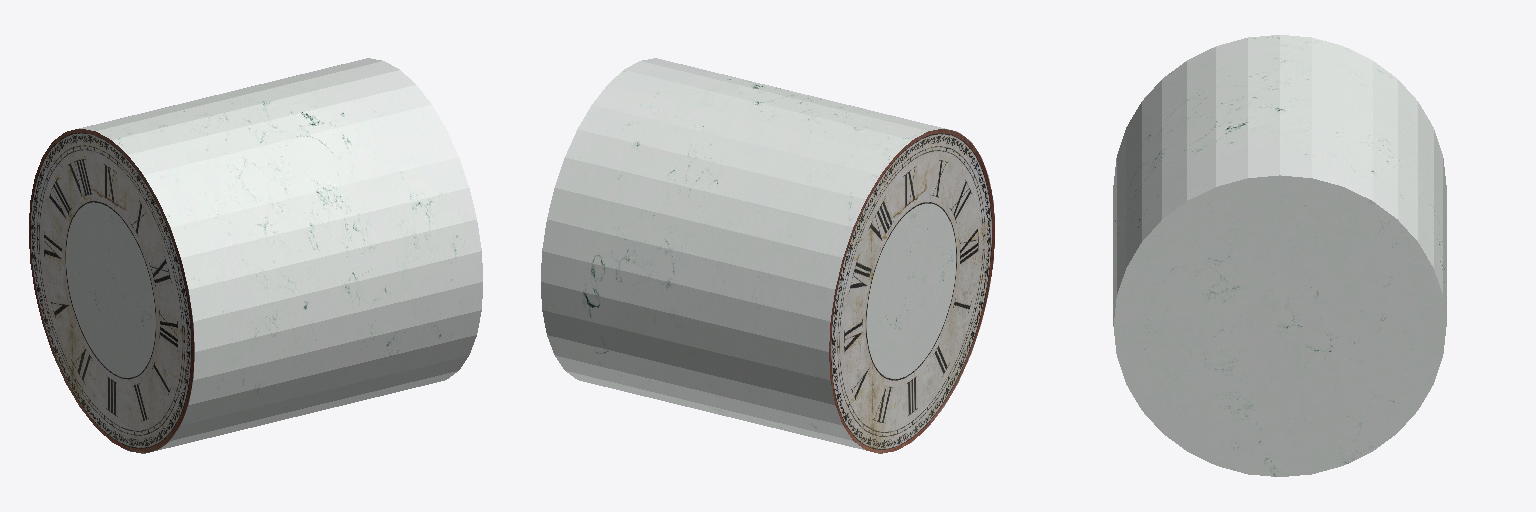
3 renders of one model, left to right at view 1: azimuth 30°, elevation 25°; view 2: azimuth 150°, elevation 25°; view 3: azimuth 270°, elevation 25°, orthographic.
Parts seen in each view (by area): view 1: Cylinder_Cylinder.001; view 2: Cylinder_Cylinder.001; view 3: Cylinder_Cylinder.001.
Part boxes in pixels (x1,y1,x2,y2): Cylinder_Cylinder.001: (29, 58, 482, 453); Cylinder_Cylinder.001: (541, 58, 994, 453); Cylinder_Cylinder.001: (1113, 35, 1446, 476).
Bounding box in the file's own units: 1.3 × 1.3 × 1.3.
1 materials, 1 textured.